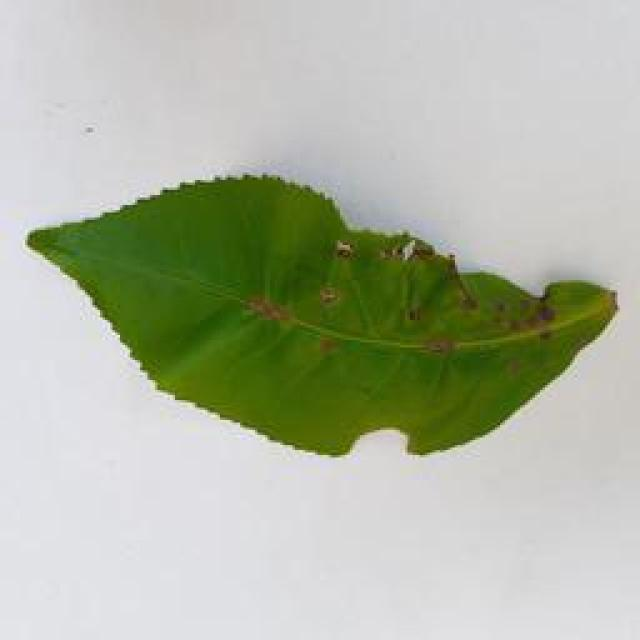Helopeltis: (10, 172, 632, 470)
